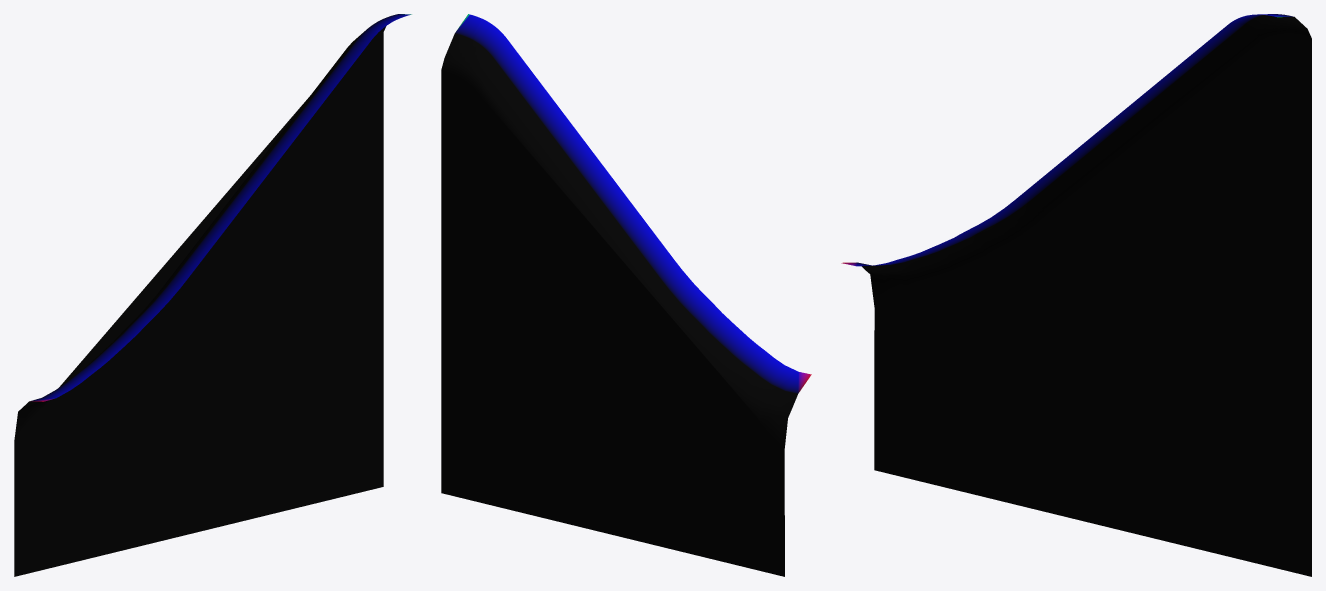
Rendered from 3DSlope02.fbx.
3 views of the same model, side by side, from view 1: azimuth 30°, elevation 25°; view 2: azimuth 150°, elevation 25°; view 3: azimuth 330°, elevation 25° (orthographic). The views are drawn at different scales.
Parts seen in each view (by area): view 1: Slope02; view 2: Slope02; view 3: Slope02.
Boxes of the visible parts, x1,y1,x2,y2 form: Slope02: (14,14,411,576); Slope02: (441,14,811,576); Slope02: (841,14,1311,576).
Bounding box in the file's own units: 5704 × 7285 × 804.
